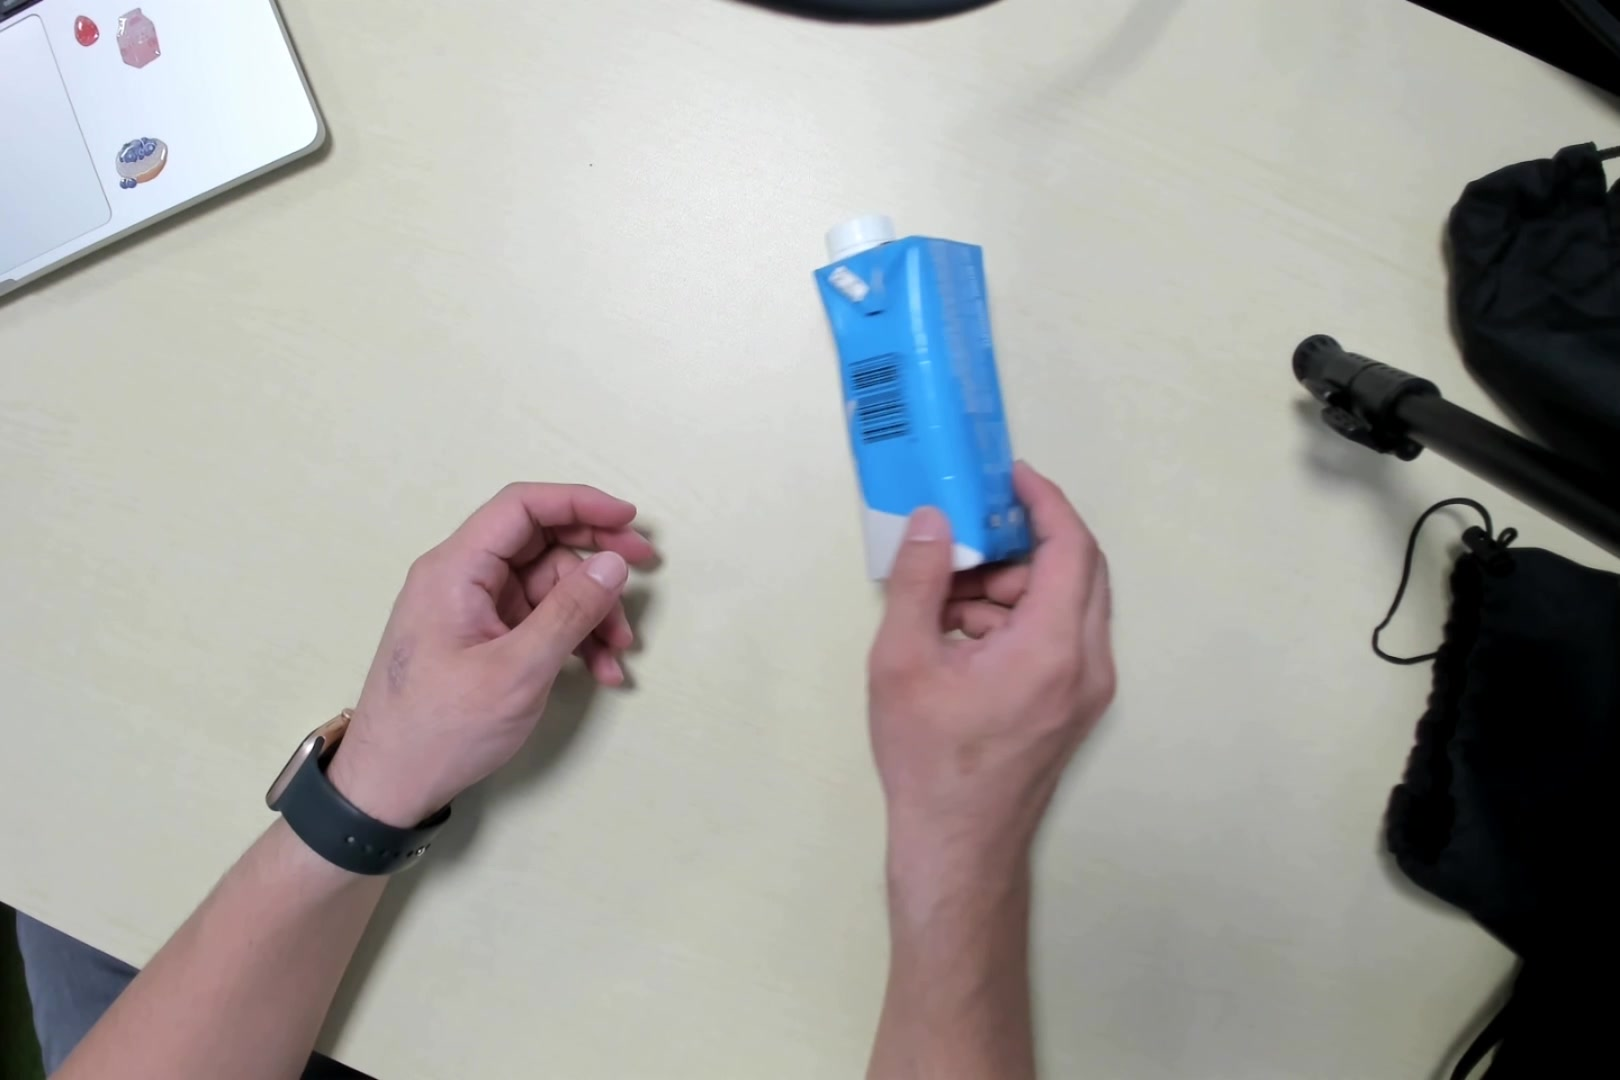CookingCreamMilk_300-399g_Halal_NonHealthy: (812, 205, 1023, 571)
